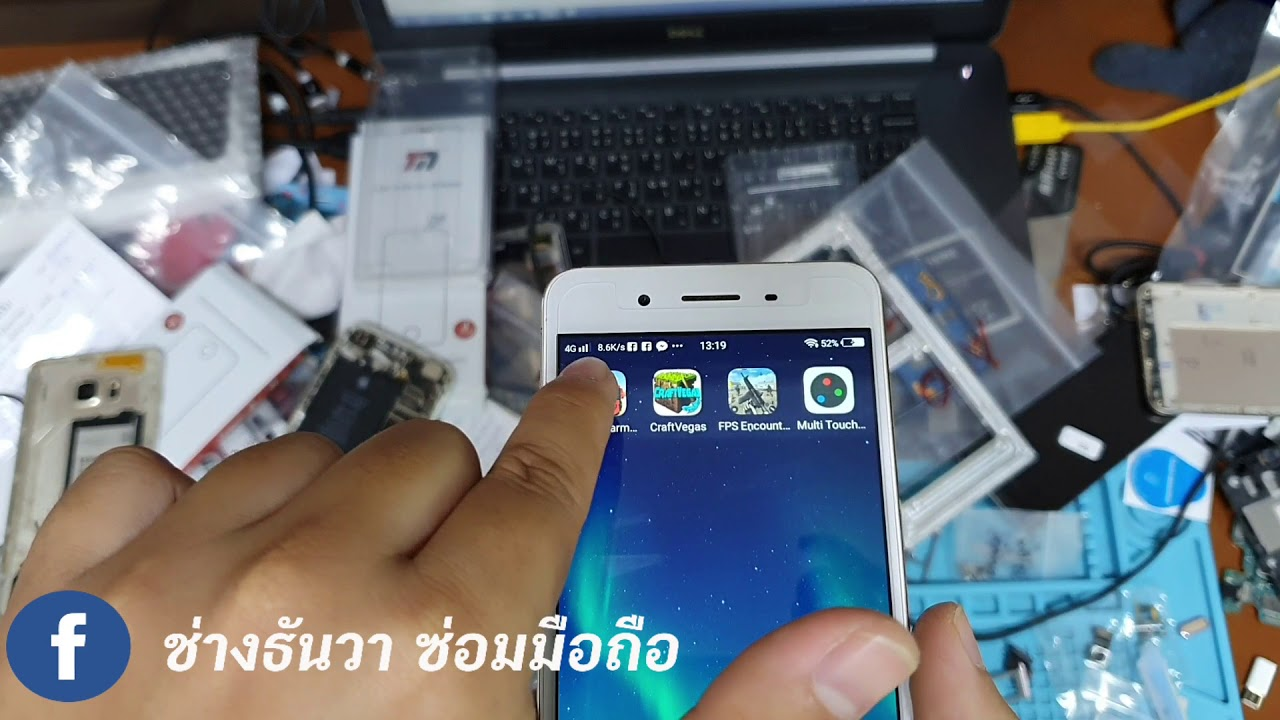Phone: (536, 260, 923, 720)
